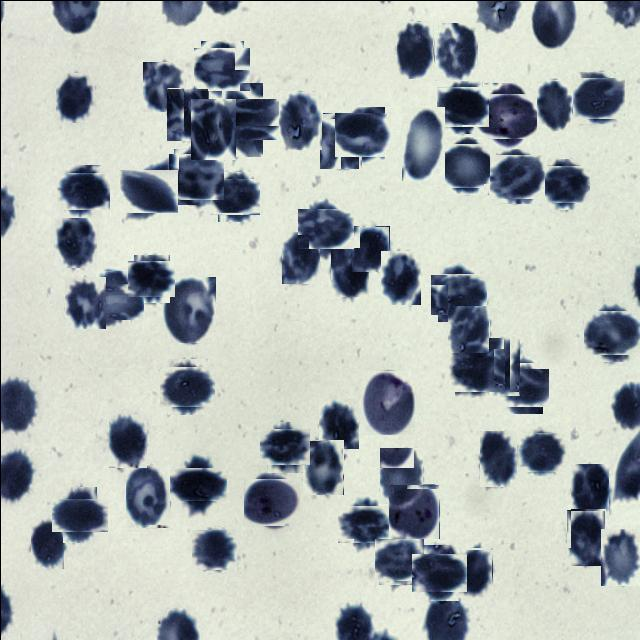red blood cell: (162, 276, 215, 342), (213, 90, 270, 148), (401, 106, 444, 180), (125, 463, 170, 527), (439, 139, 492, 191), (190, 98, 235, 159), (170, 150, 222, 202), (586, 306, 638, 358), (122, 164, 174, 216), (277, 90, 322, 149), (434, 21, 478, 80), (337, 110, 388, 160), (379, 446, 423, 503), (492, 150, 542, 200), (196, 44, 246, 94), (451, 344, 501, 394), (433, 268, 482, 318), (319, 112, 362, 168), (88, 276, 137, 325), (300, 204, 349, 252), (163, 362, 211, 410), (600, 528, 640, 585), (302, 439, 343, 494), (166, 87, 208, 140), (574, 74, 622, 120), (416, 548, 462, 596), (566, 509, 605, 565), (380, 250, 420, 304), (396, 20, 433, 78), (64, 276, 105, 328), (570, 464, 608, 520), (439, 84, 485, 130), (376, 536, 422, 582), (54, 217, 96, 267), (142, 61, 184, 111), (479, 430, 516, 486), (59, 168, 105, 213), (174, 461, 220, 506), (341, 501, 387, 546), (281, 230, 320, 283), (108, 413, 146, 467), (500, 366, 546, 410), (56, 492, 102, 536), (447, 304, 489, 352), (318, 398, 358, 448), (541, 161, 585, 206), (55, 72, 94, 122), (330, 245, 368, 296), (262, 424, 306, 468), (520, 429, 562, 474), (488, 336, 520, 395), (536, 79, 572, 130), (214, 175, 256, 218), (192, 528, 235, 570), (130, 257, 172, 299), (351, 225, 389, 271), (458, 548, 492, 598), (30, 518, 63, 568)
ring: (361, 370, 414, 434), (478, 87, 534, 143), (388, 483, 439, 538), (245, 476, 298, 528)
